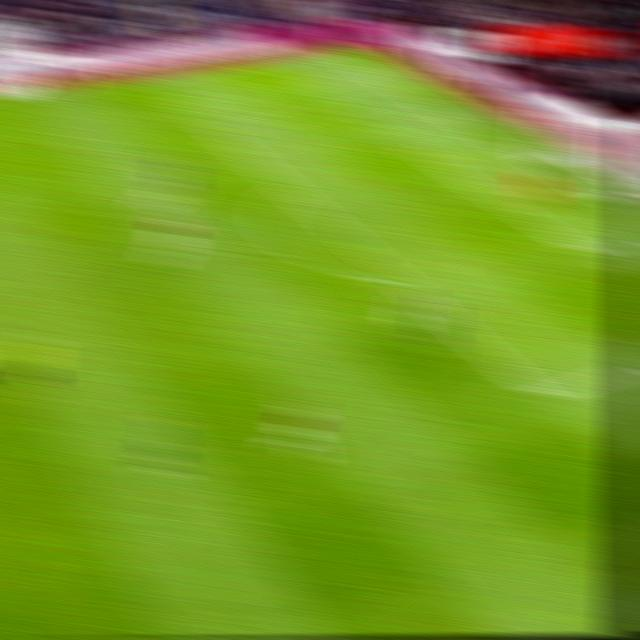bigarea_bottom_inner: (524, 380, 563, 408)
bigarea_top_inner: (202, 119, 238, 142)
bigarea_top_outter: (393, 86, 429, 104)
bottom_arc_area_intersection: (383, 270, 420, 293)
corner: (312, 43, 350, 61)
smallarea_bottom_inner: (571, 238, 610, 266)
smallarea_top_inner: (407, 144, 444, 162)
smallarea_top_outter: (471, 128, 508, 148)
top_arc_area_intersection: (274, 179, 310, 199)
